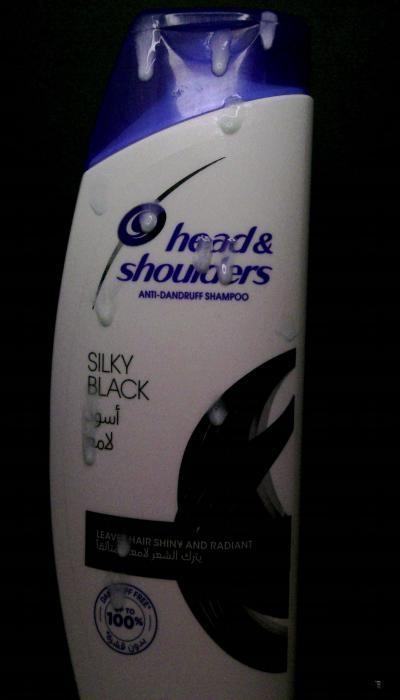pob_unacc: (130, 12, 170, 90), (198, 23, 236, 82), (74, 388, 102, 468), (214, 88, 253, 144), (88, 280, 122, 332), (209, 234, 242, 286), (251, 7, 285, 56), (188, 230, 216, 278), (84, 178, 110, 226), (272, 307, 304, 346), (134, 199, 165, 238), (106, 571, 130, 616), (202, 398, 228, 428), (114, 532, 134, 562)
